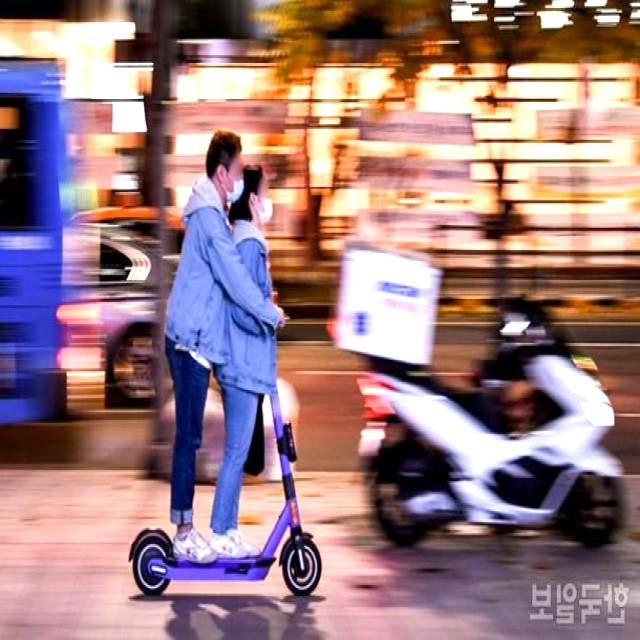bare_head: (204, 125, 249, 213), (228, 159, 281, 226)
human: (155, 126, 244, 559), (207, 159, 285, 563)
kickboard: (118, 511, 341, 609)
